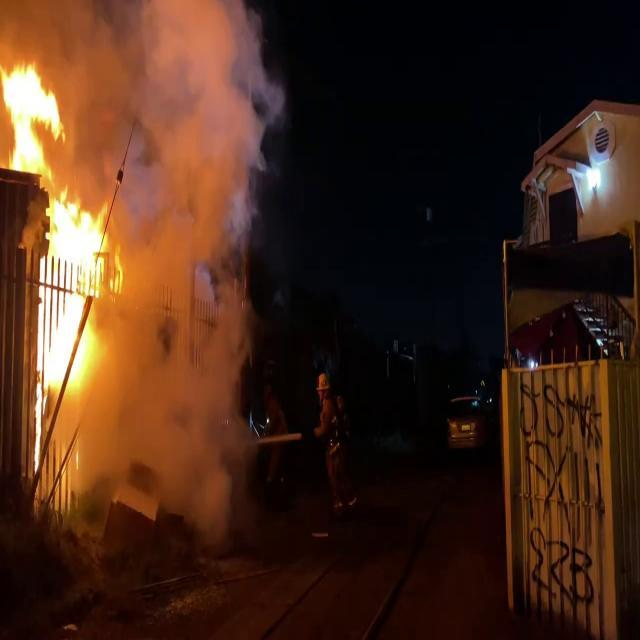Fire: (11, 50, 117, 512), (0, 54, 63, 180)
Smoke: (74, 0, 282, 524)
